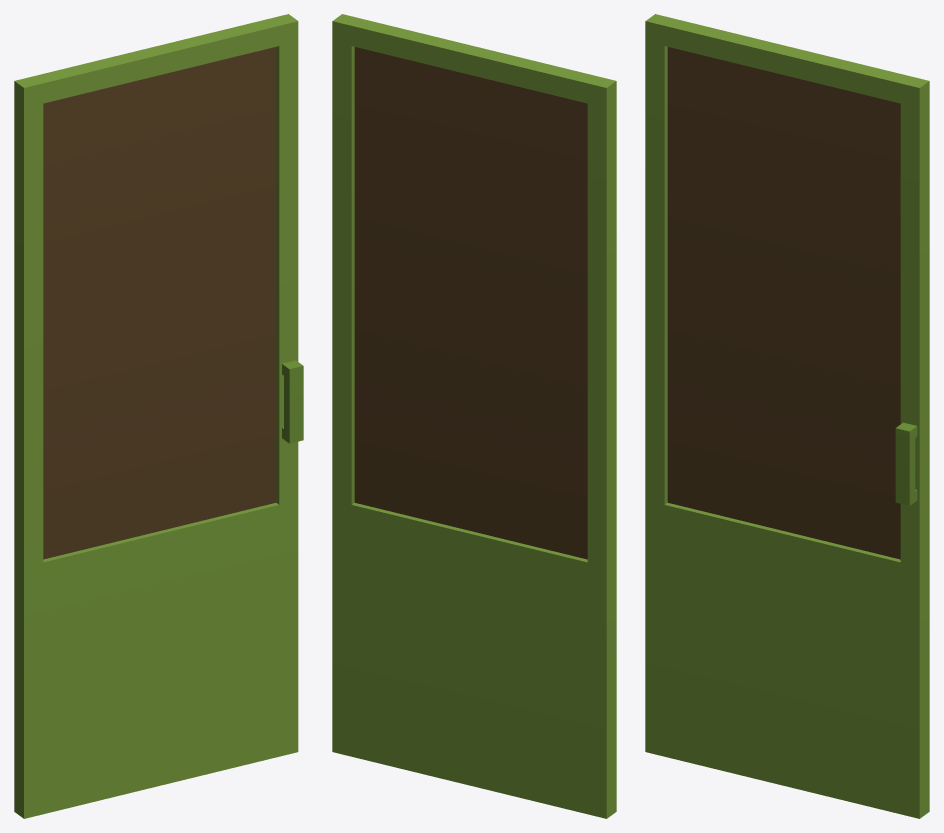
The model's file is Coffe_02_Door01.fbx.
3 renders of one model, left to right at view 1: azimuth 30°, elevation 25°; view 2: azimuth 150°, elevation 25°; view 3: azimuth 330°, elevation 25°, orthographic.
Visible parts, largest first — view 1: Coffe_02_Door01; view 2: Coffe_02_Door01; view 3: Coffe_02_Door01.
Part boxes in pixels (x1,y1,x2,y2): Coffe_02_Door01: [14, 14, 303, 818]; Coffe_02_Door01: [332, 14, 616, 818]; Coffe_02_Door01: [645, 14, 929, 818].
Size of the model in its own units: 0.8096 by 2.06 by 0.0891.
